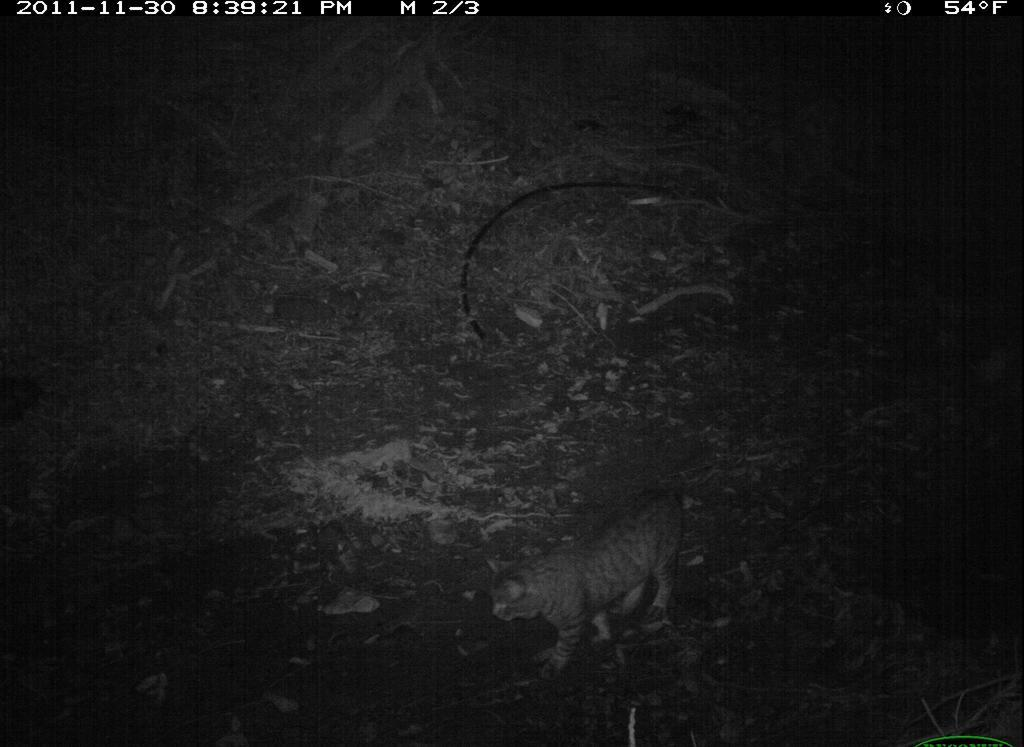cat: (495, 481, 702, 670)
